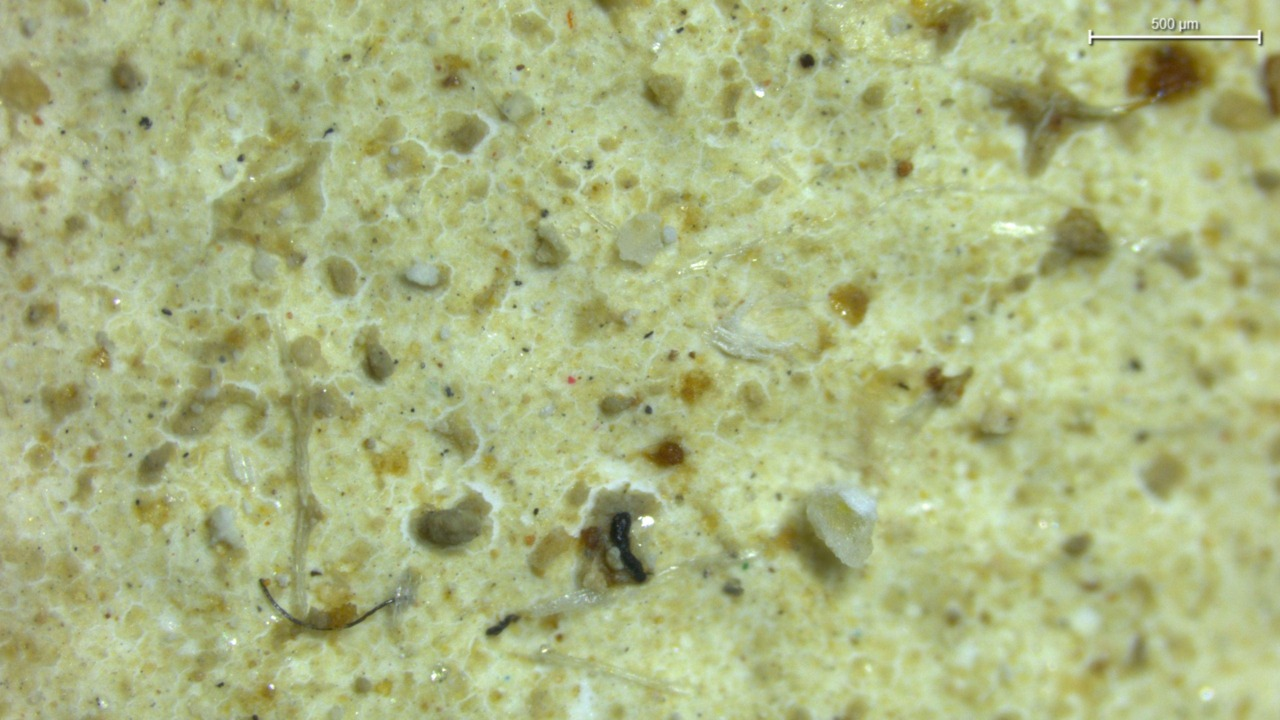microplastic_fragment: (806, 486, 877, 567), (710, 315, 792, 360), (616, 213, 663, 265), (208, 505, 243, 549), (228, 445, 259, 486), (251, 246, 281, 280), (405, 262, 440, 287)
